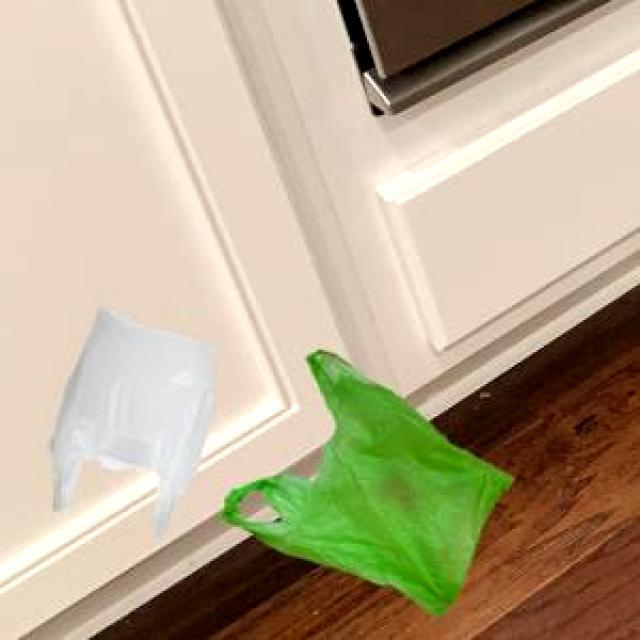Plastic_Bag: (218, 346, 512, 614), (46, 302, 212, 534)
